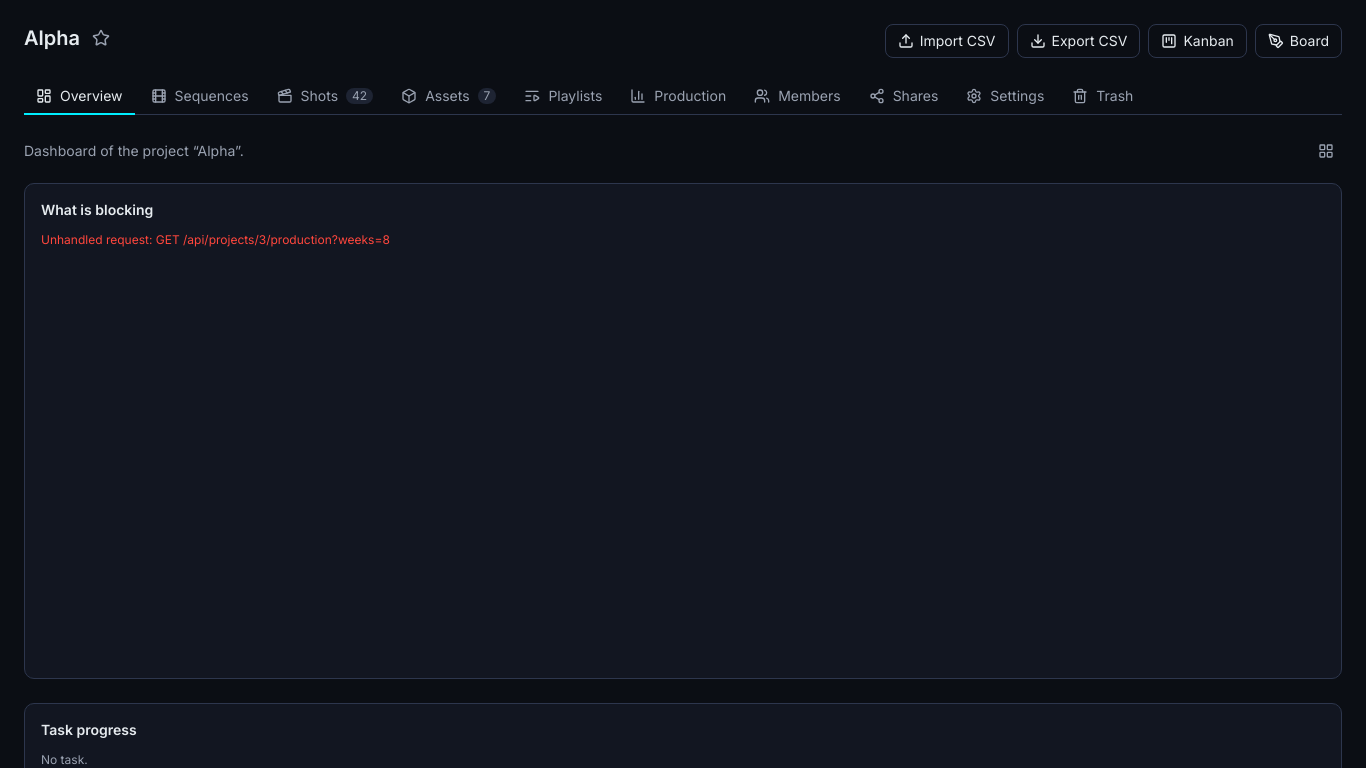
Test: ProjectPage › writes the active tab into the URL so that a link opens in the right place
The image size is (1366, 768).
Click the tab "Shots 42".
click(325, 96)  # box [265,78,385,114]
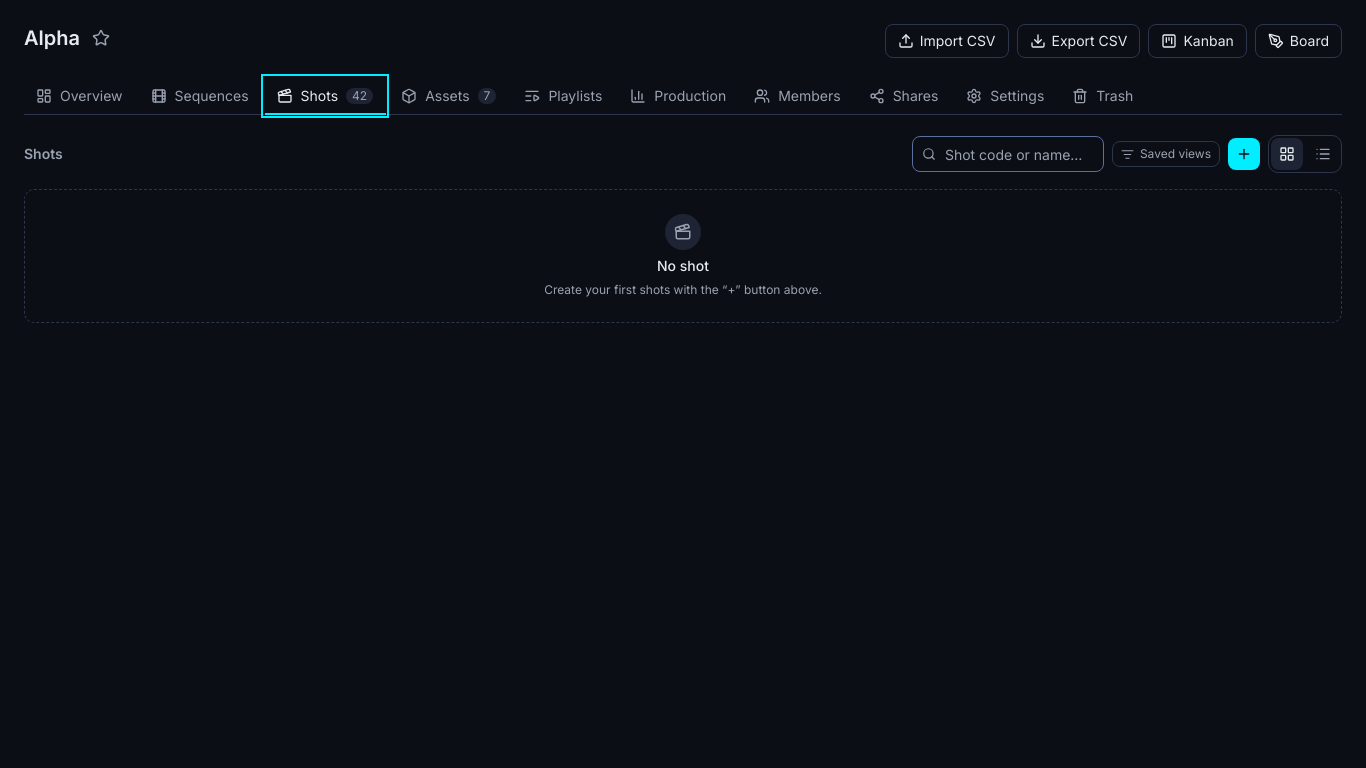
Result: the heading "Shots" is shown at [24,144,63,164]
